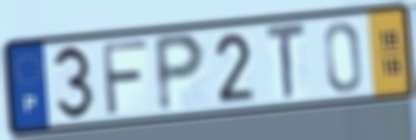0: (321, 19, 364, 95)
2: (212, 31, 259, 106)
3: (51, 42, 98, 125)
F: (99, 37, 152, 119)
P: (152, 31, 209, 116)
T: (263, 19, 309, 104)
